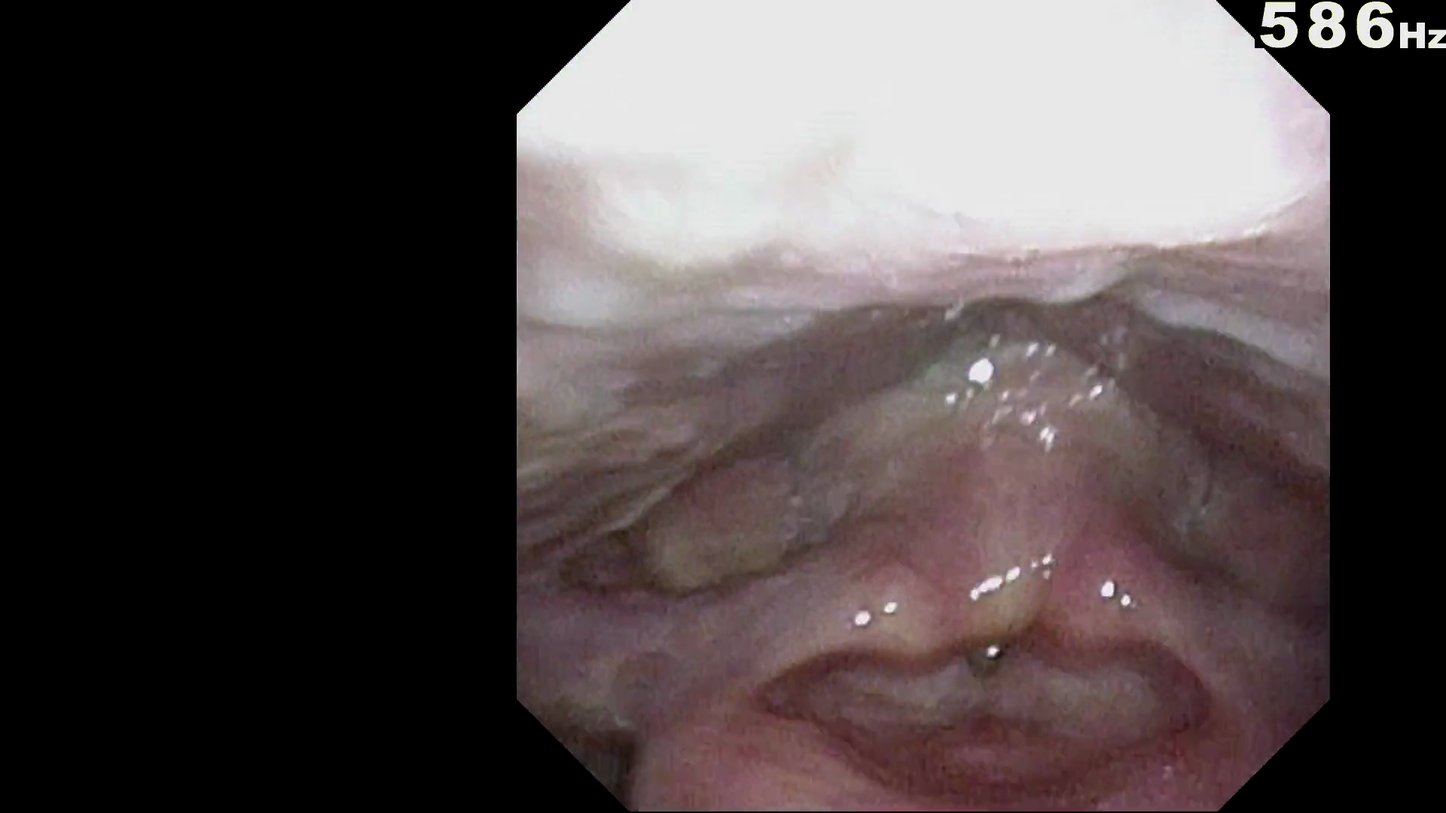epiglottis: (664, 612, 1238, 761)
trachea: (919, 670, 1040, 790)
